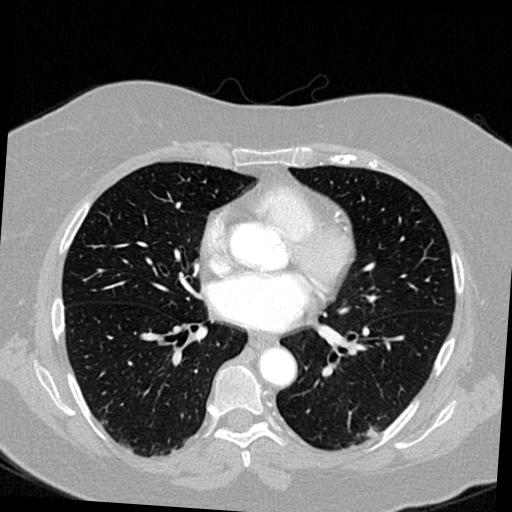nodule: (364, 425, 380, 441)
